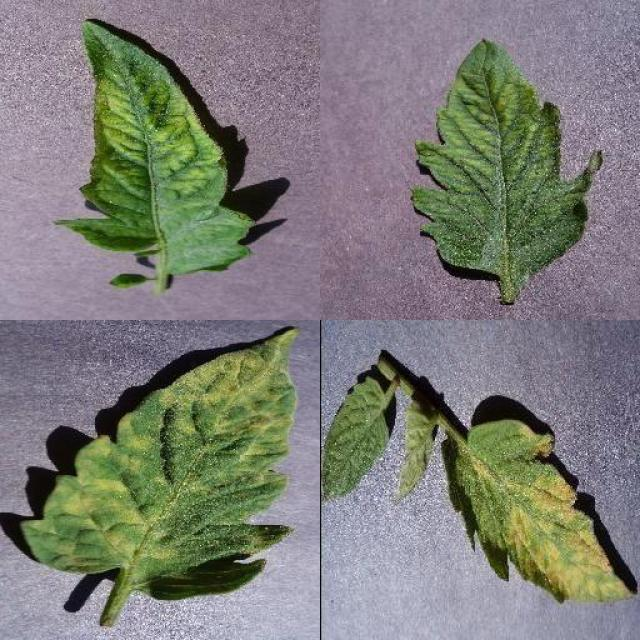Healthy: (320, 375, 392, 503)
